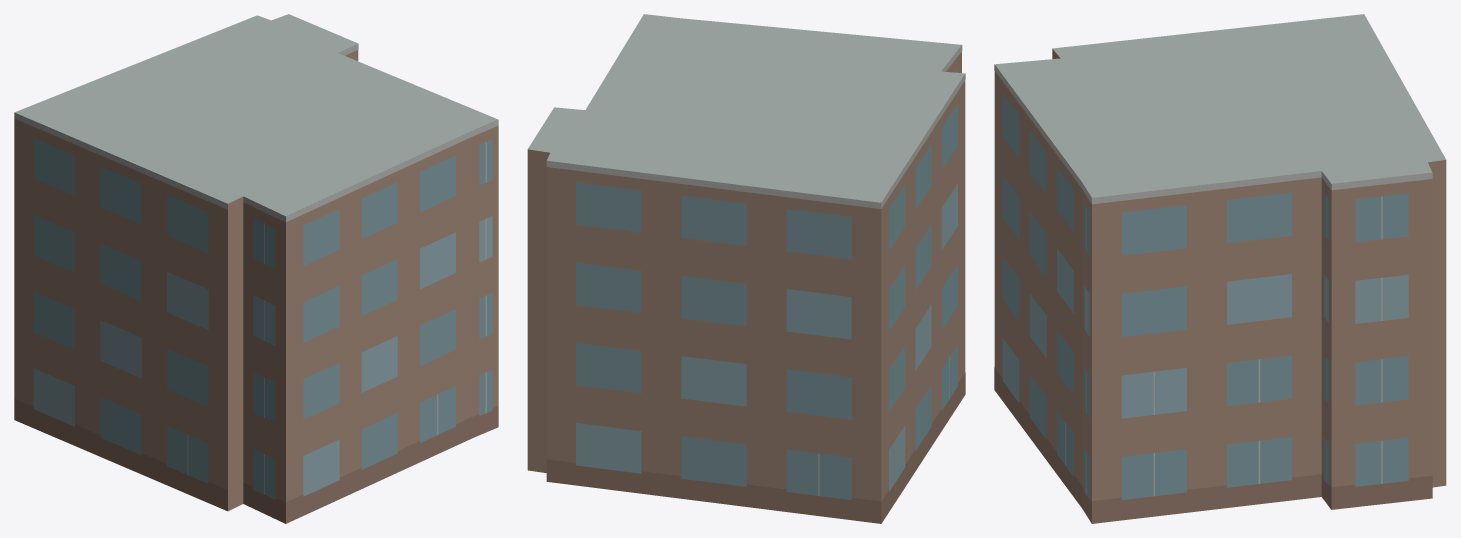
File: survey-upis-32586953.glb
3 views of the same model, side by side, from view 1: azimuth 30°, elevation 25°; view 2: azimuth 150°, elevation 25°; view 3: azimuth 270°, elevation 25° (orthographic). The views are drawn at different scales.
Visible parts, largest first — view 1: survey-upis-32586953.tmp; view 2: survey-upis-32586953.tmp; view 3: survey-upis-32586953.tmp.
Part boxes in pixels (box(x1,y1,x2,y2)): survey-upis-32586953.tmp: box(14, 14, 498, 523); survey-upis-32586953.tmp: box(527, 14, 965, 523); survey-upis-32586953.tmp: box(994, 14, 1446, 523).
Bounding box in the file's own units: 15.15 × 12.5 × 15.72.
